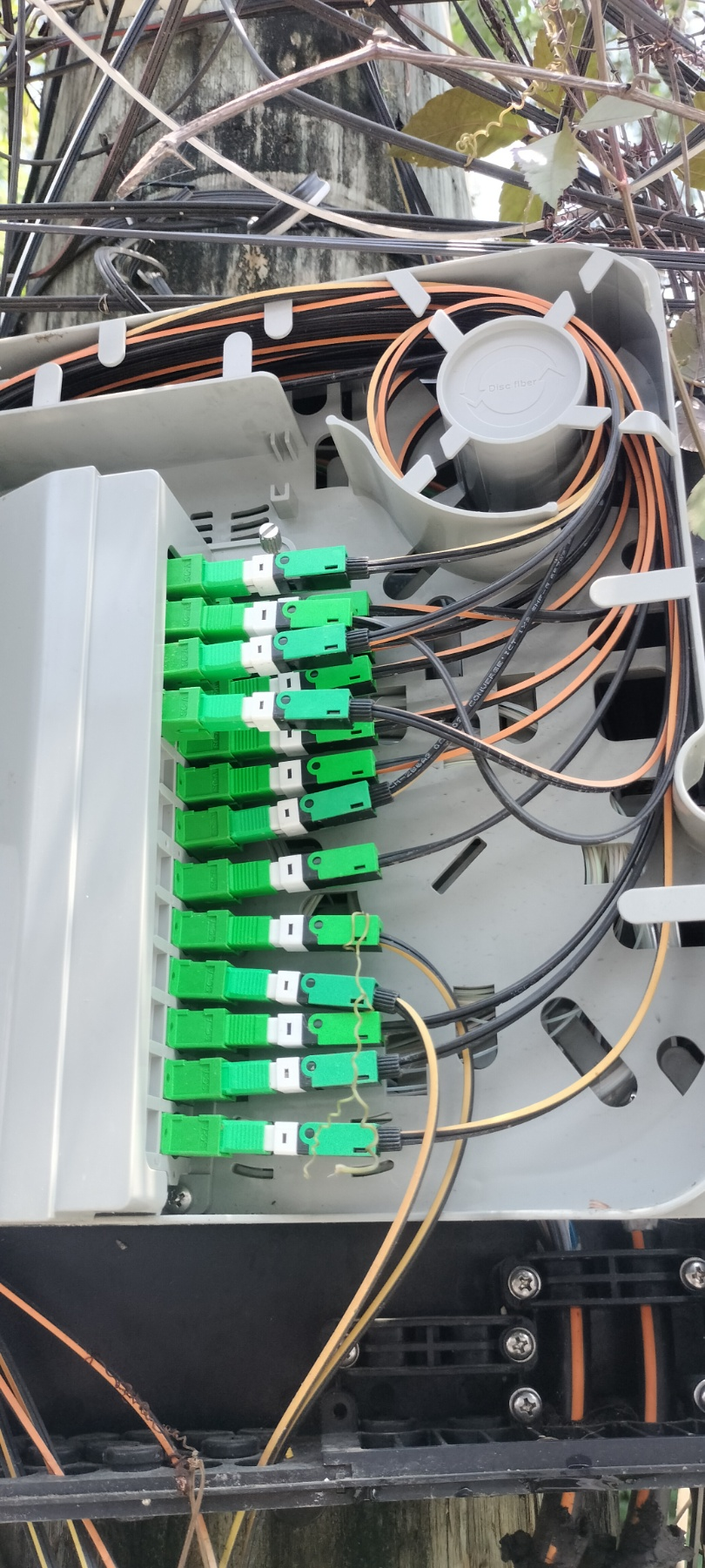no port: (153, 845, 177, 898), (153, 892, 171, 944), (157, 745, 175, 796), (156, 794, 175, 842), (151, 943, 168, 994), (148, 996, 165, 1046), (146, 1049, 163, 1098), (146, 1108, 162, 1153)
occupied: (231, 776, 399, 845), (228, 838, 392, 905), (224, 966, 408, 1022), (200, 625, 380, 678), (223, 1113, 409, 1162), (221, 1055, 409, 1101), (229, 747, 386, 800), (222, 625, 387, 674), (228, 655, 385, 705), (222, 1007, 392, 1053), (229, 588, 386, 637), (227, 914, 393, 960), (229, 709, 383, 758), (197, 690, 379, 730), (200, 551, 380, 591), (200, 594, 363, 637)
